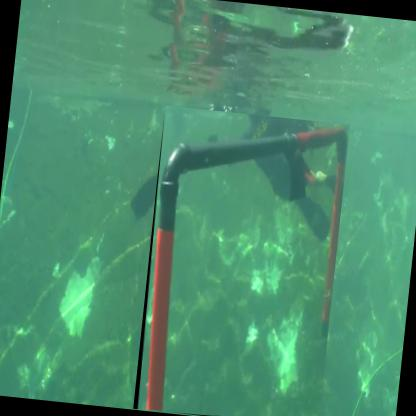gate: (133, 106, 352, 416)
